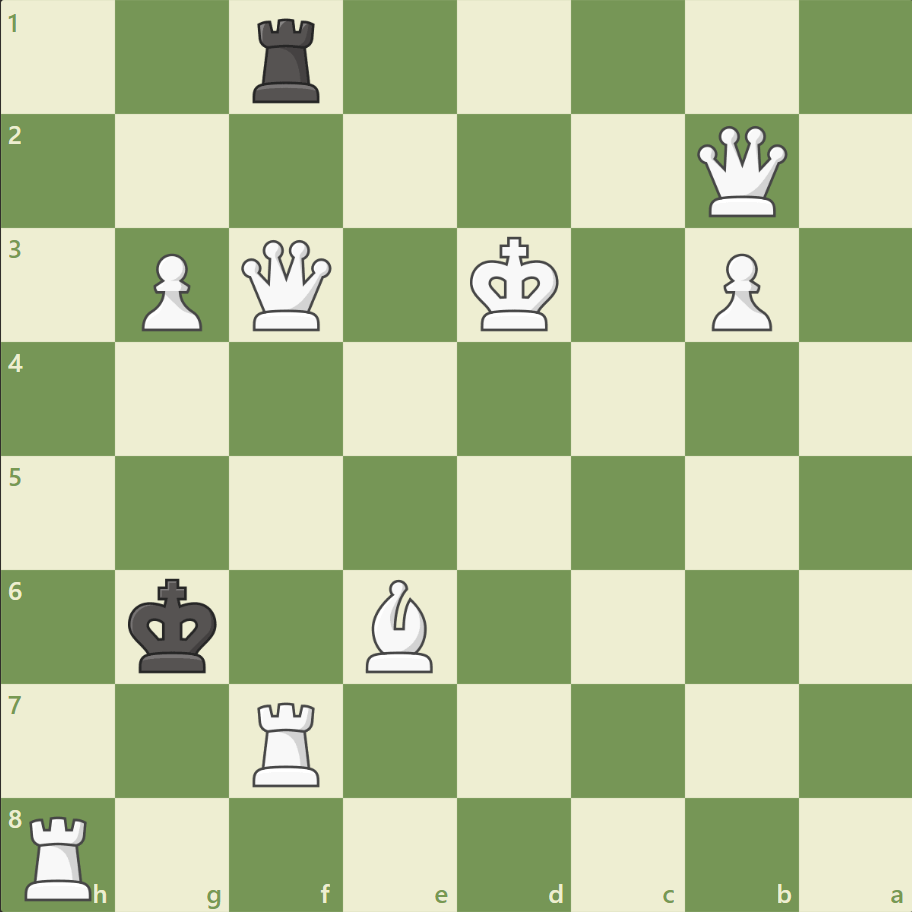B: (358, 574, 442, 676)
K: (465, 231, 565, 339)
P: (701, 246, 776, 337), (133, 246, 208, 337)
Q: (691, 122, 790, 222), (237, 236, 336, 335)
R: (19, 806, 102, 904), (246, 693, 329, 790)
k: (124, 571, 224, 679)
r: (246, 12, 329, 109)
